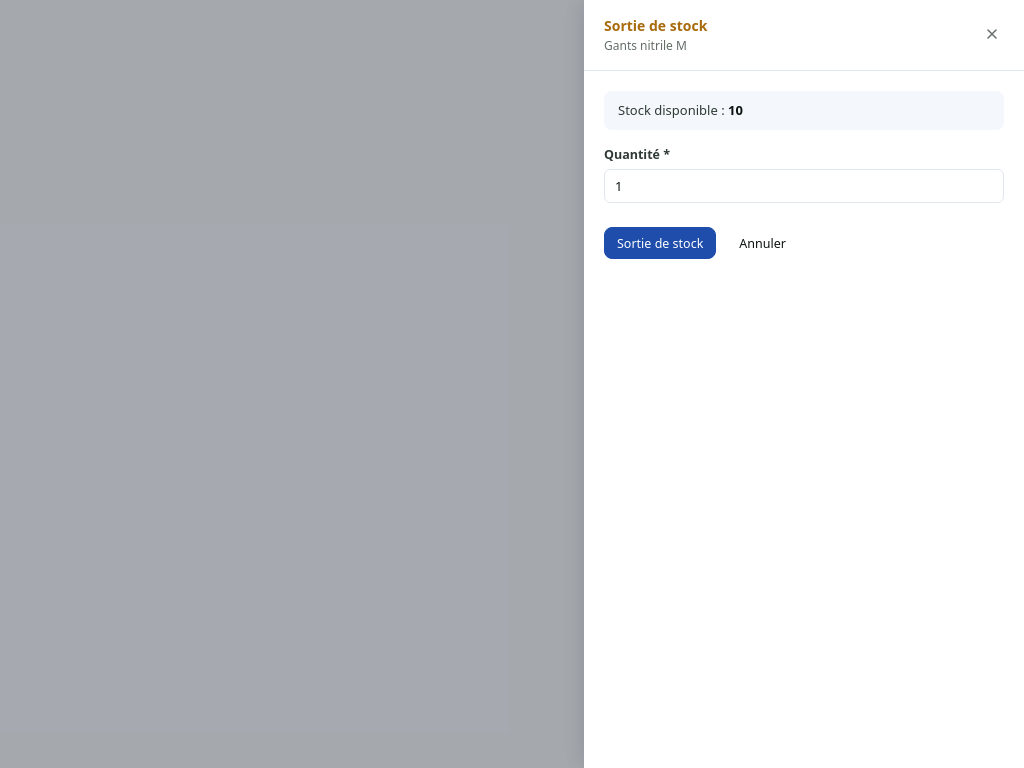
Scenario: MovementDrawer — OUT mode › shows warning when quantity exceeds current stock
Replace the text in the number field labelled "Quantité *" with "15" at (804, 186), box left=604, top=169, right=1004, bottom=203
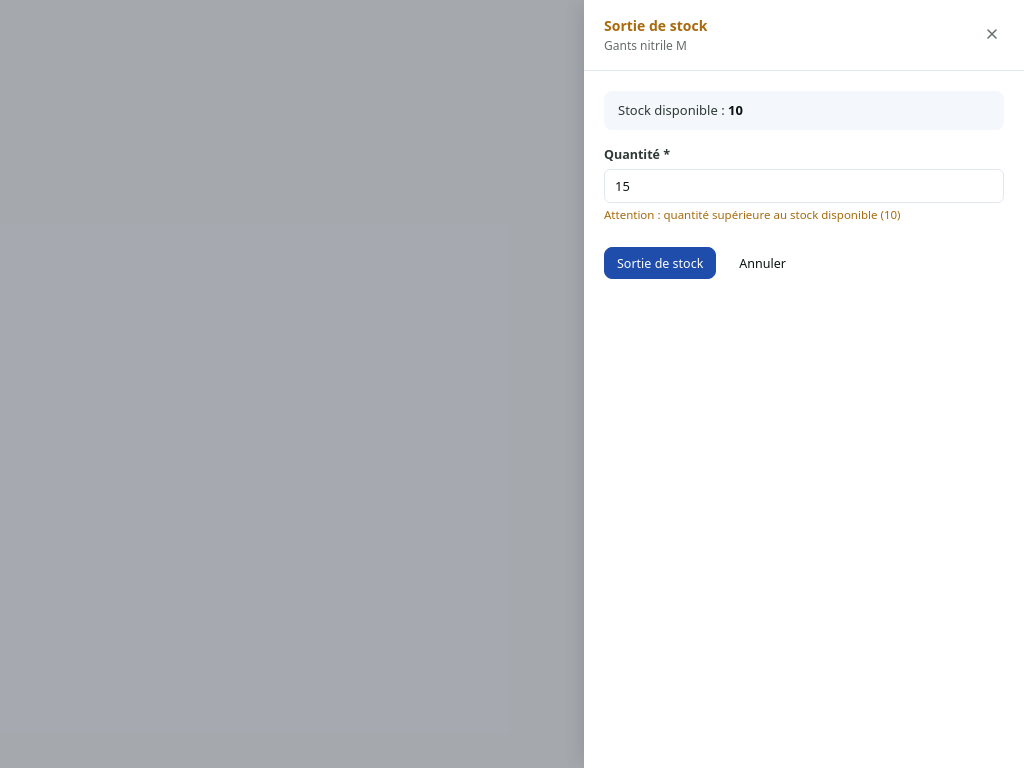
Now the text "Attention : quantité supérieure au stock disponible (10)" is shown, box left=604, top=207, right=900, bottom=222
